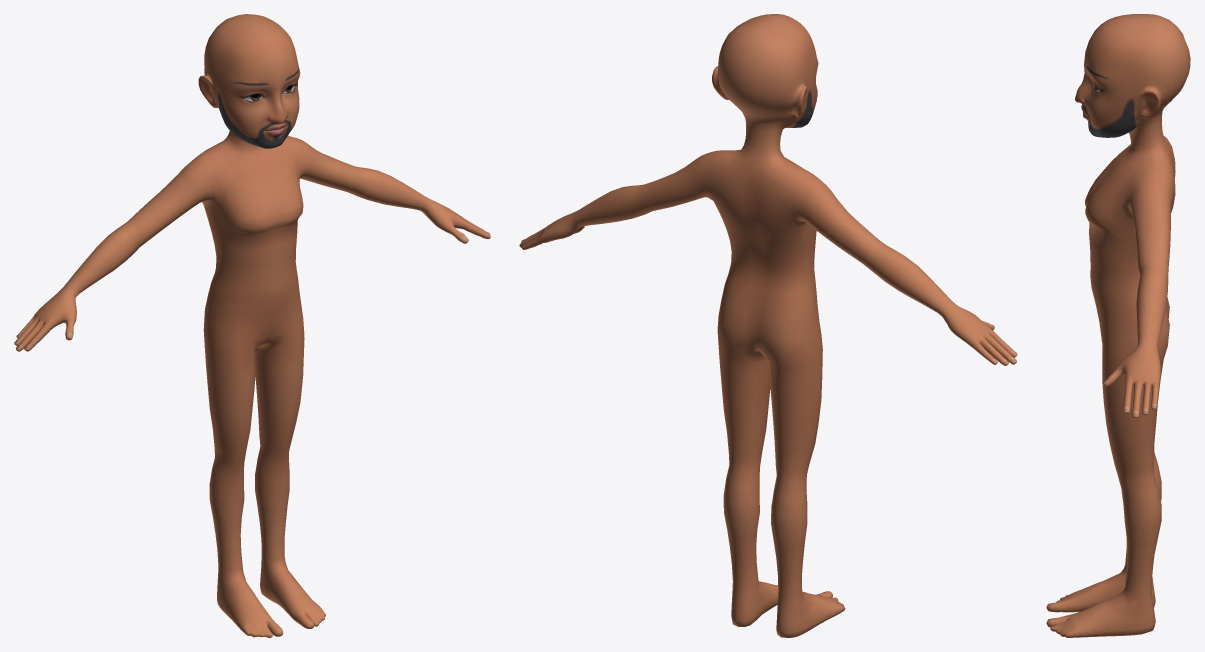
Rendered from frame_0035.glb.
3 renders of one model, left to right at view 1: azimuth 30°, elevation 25°; view 2: azimuth 150°, elevation 25°; view 3: azimuth 270°, elevation 25°, orthographic. The views are drawn at different scales.
Visible parts, largest first — view 1: frame_0035_head_geo; view 2: frame_0035_head_geo; view 3: frame_0035_head_geo.
Part boxes in pixels (left/top/right/bottom): frame_0035_head_geo: left=14, top=14, right=490, bottom=637; frame_0035_head_geo: left=519, top=14, right=1017, bottom=637; frame_0035_head_geo: left=1046, top=14, right=1190, bottom=637.
Size of the model in its own units: 1.28 by 1.5 by 0.3253.
3 materials, 3 textured.
